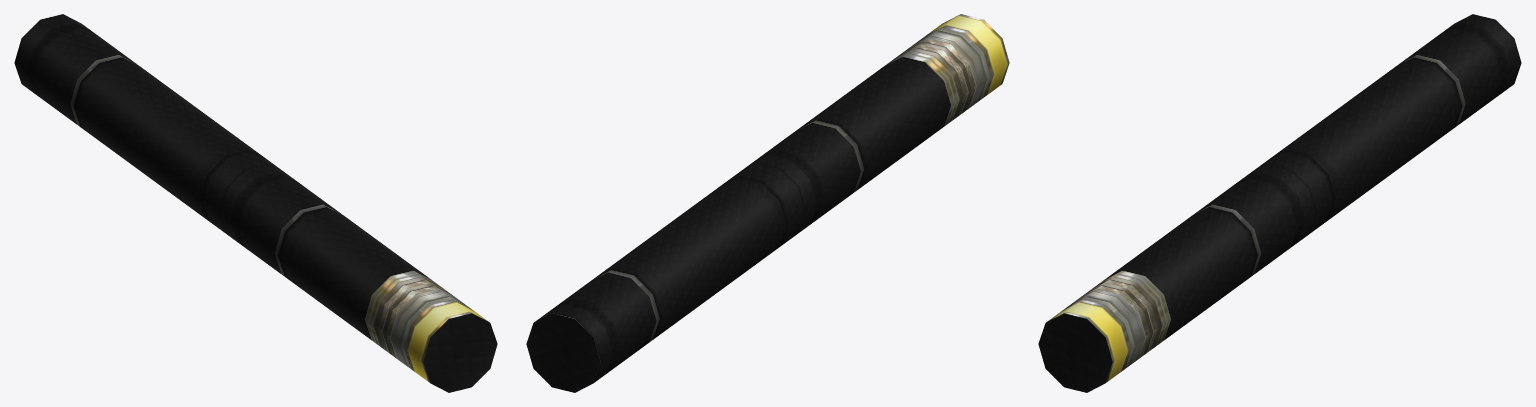
File: SM_Hose7.fbx
The picture shows the model from 3 angles, left to right: view 1: azimuth 30°, elevation 25°; view 2: azimuth 150°, elevation 25°; view 3: azimuth 330°, elevation 25°; orthographic projection.
Visible parts, largest first — view 1: SM_Hose7_LOD0; view 2: SM_Hose7_LOD0; view 3: SM_Hose7_LOD0.
Part boxes in pixels (bbox=[...]): SM_Hose7_LOD0: bbox=[14, 14, 497, 392]; SM_Hose7_LOD0: bbox=[526, 14, 1009, 392]; SM_Hose7_LOD0: bbox=[1038, 14, 1521, 392].
Size of the model in its own units: 10.5 by 100 by 10.
Materials: 1 (1 with a texture image).
